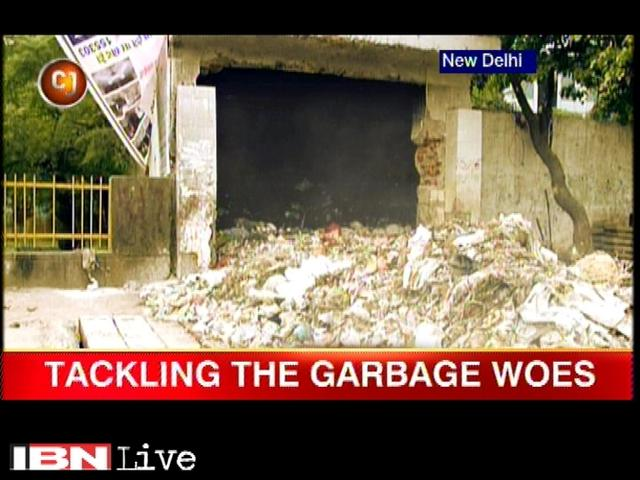garbage: (241, 240, 596, 335)
